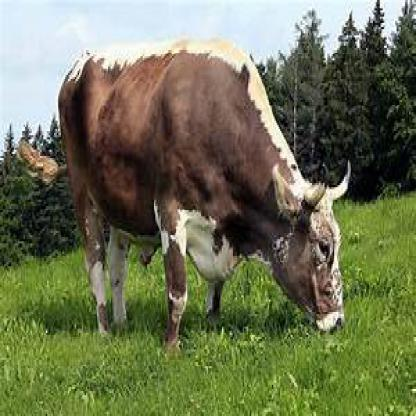cow: (58, 35, 352, 348)
